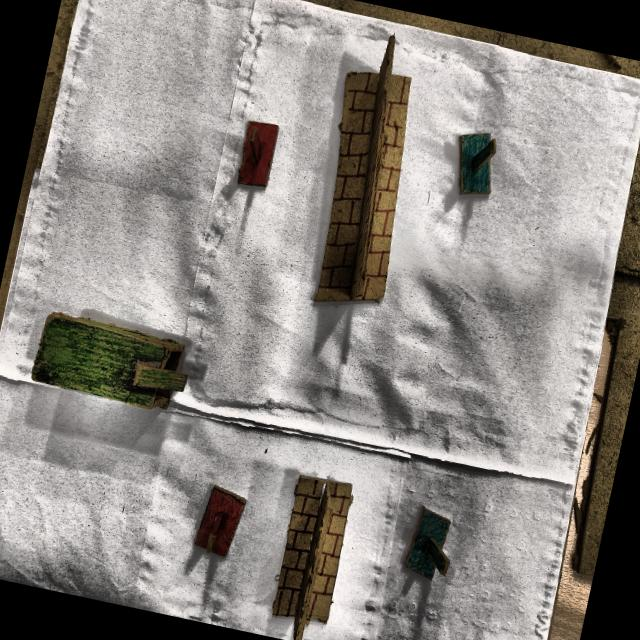Tank: (28, 313, 188, 412)
Wall: (313, 38, 412, 305), (271, 476, 355, 640)
enemy: (192, 475, 246, 561), (234, 118, 283, 192)
friend: (401, 506, 452, 588), (456, 131, 500, 201)
